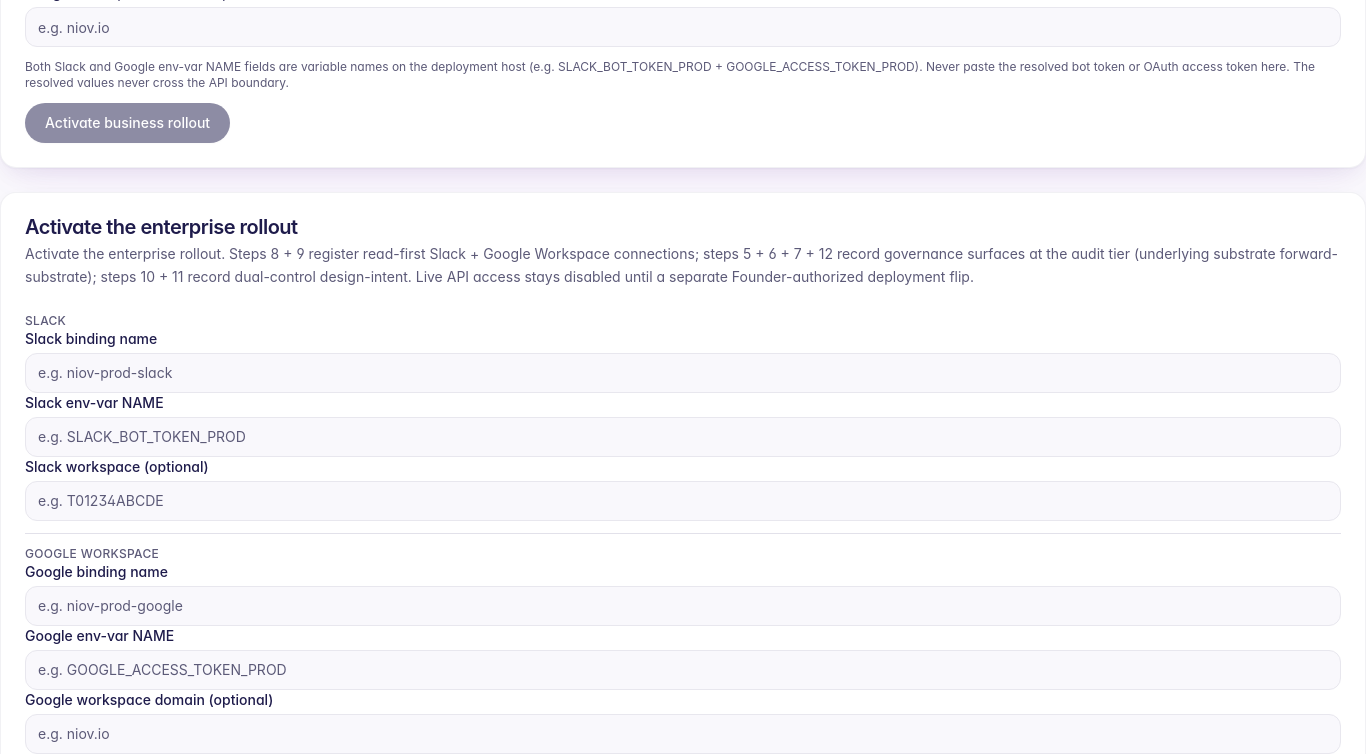
Test case: D6 enterprise — successful activation › renders all 14 step cards in order after a successful POST
The image size is (1366, 754).
(page scrolled)
In the field with test id "enterprise-slack-display-name-input": point(683, 372) [25, 352, 1341, 392], type "niov-prod-slack"
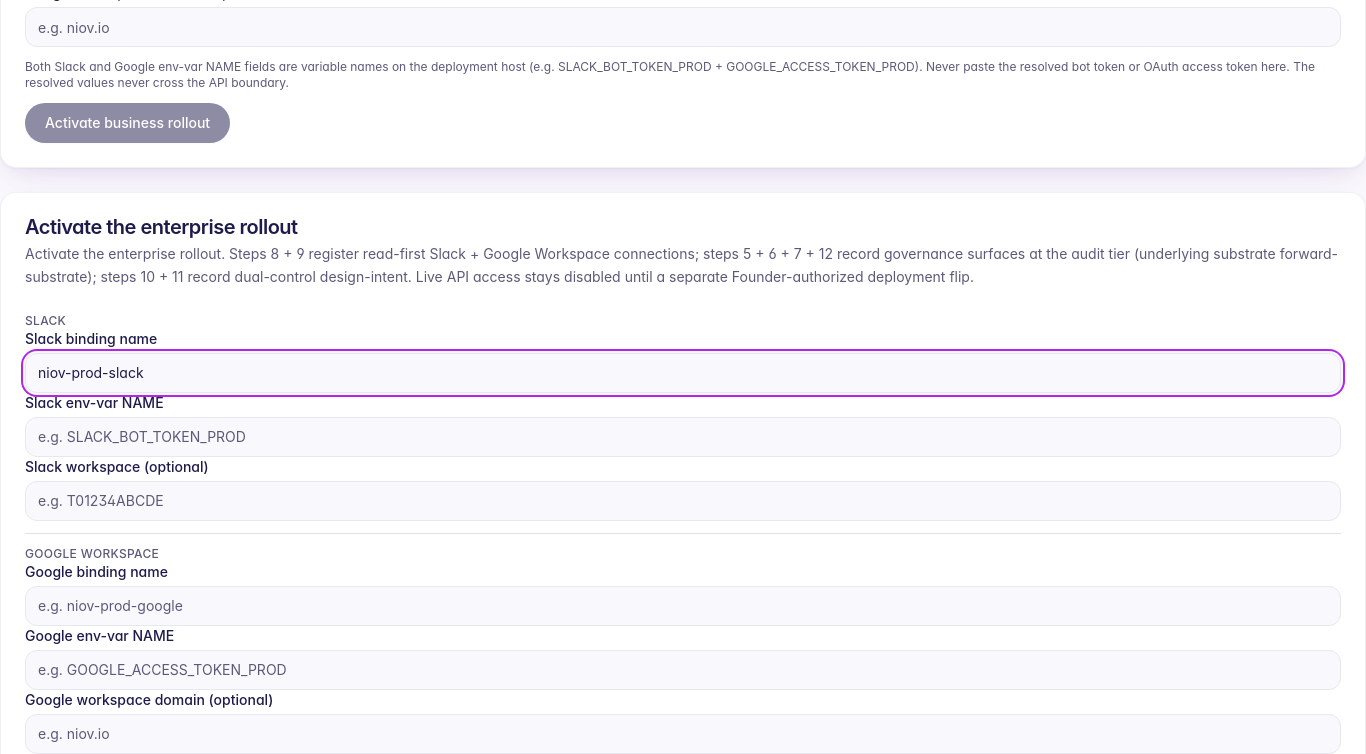
In the field with test id "enterprise-slack-secret-ref-input": point(683, 436) [25, 416, 1341, 456], type "SLACK_BOT_TOKEN_PROD"
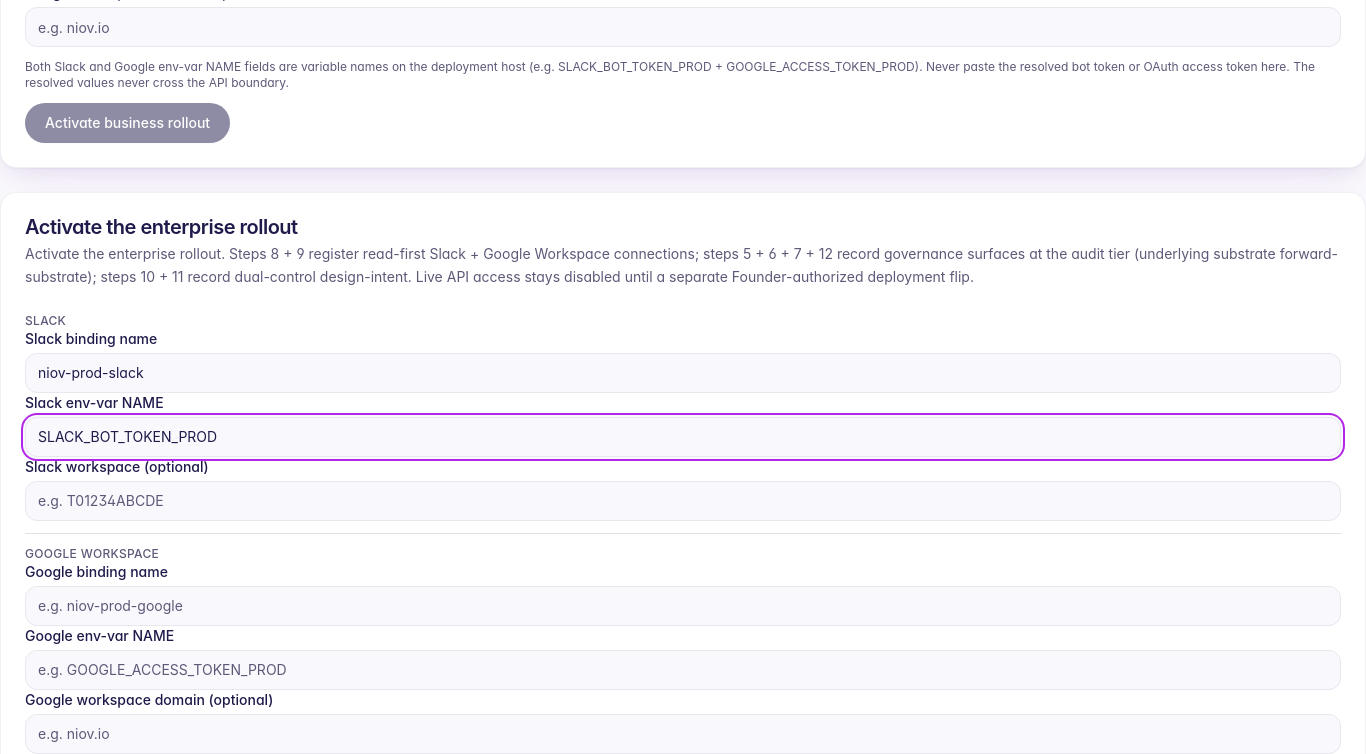
In the field with test id "enterprise-google-display-name-input": point(683, 606) [25, 586, 1341, 626], type "niov-prod-google"
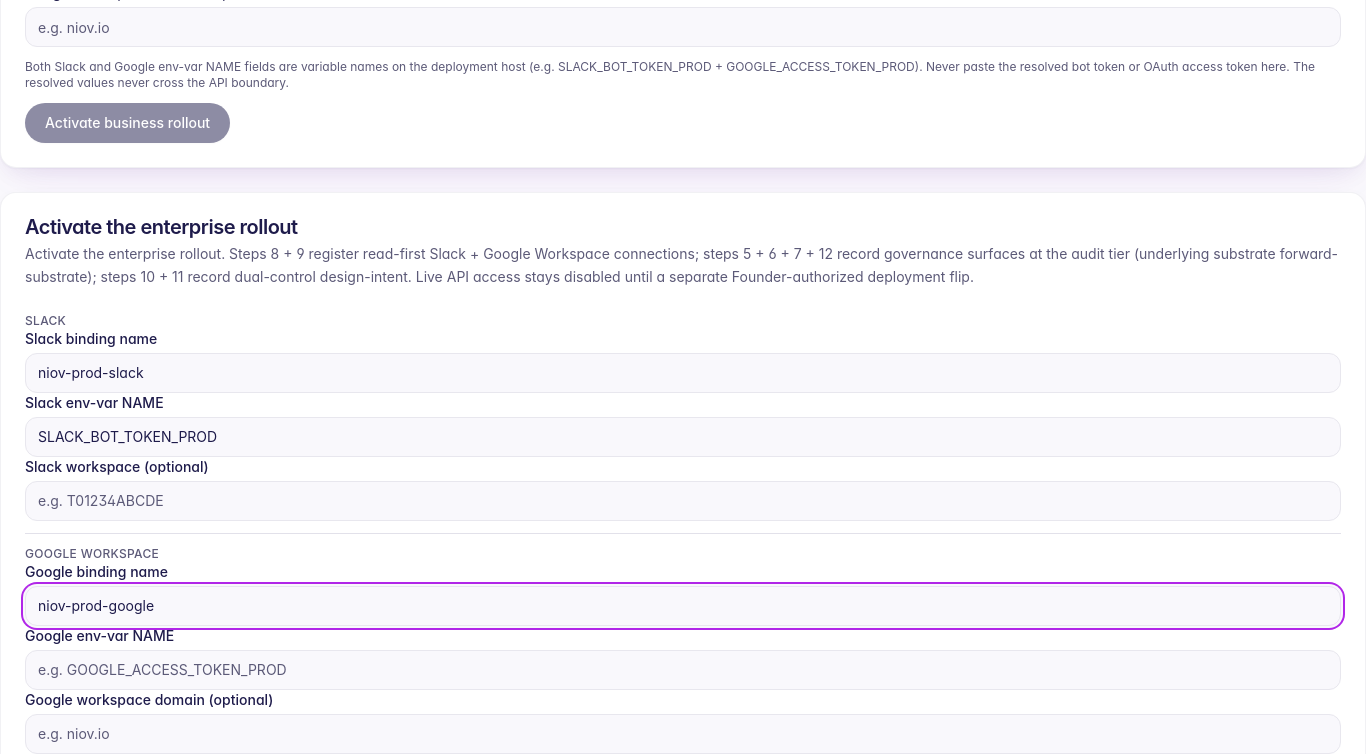
In the field with test id "enterprise-google-secret-ref-input": point(683, 670) [25, 650, 1341, 690], type "GOOGLE_ACCESS_TOKEN_PROD"
(page scrolled)
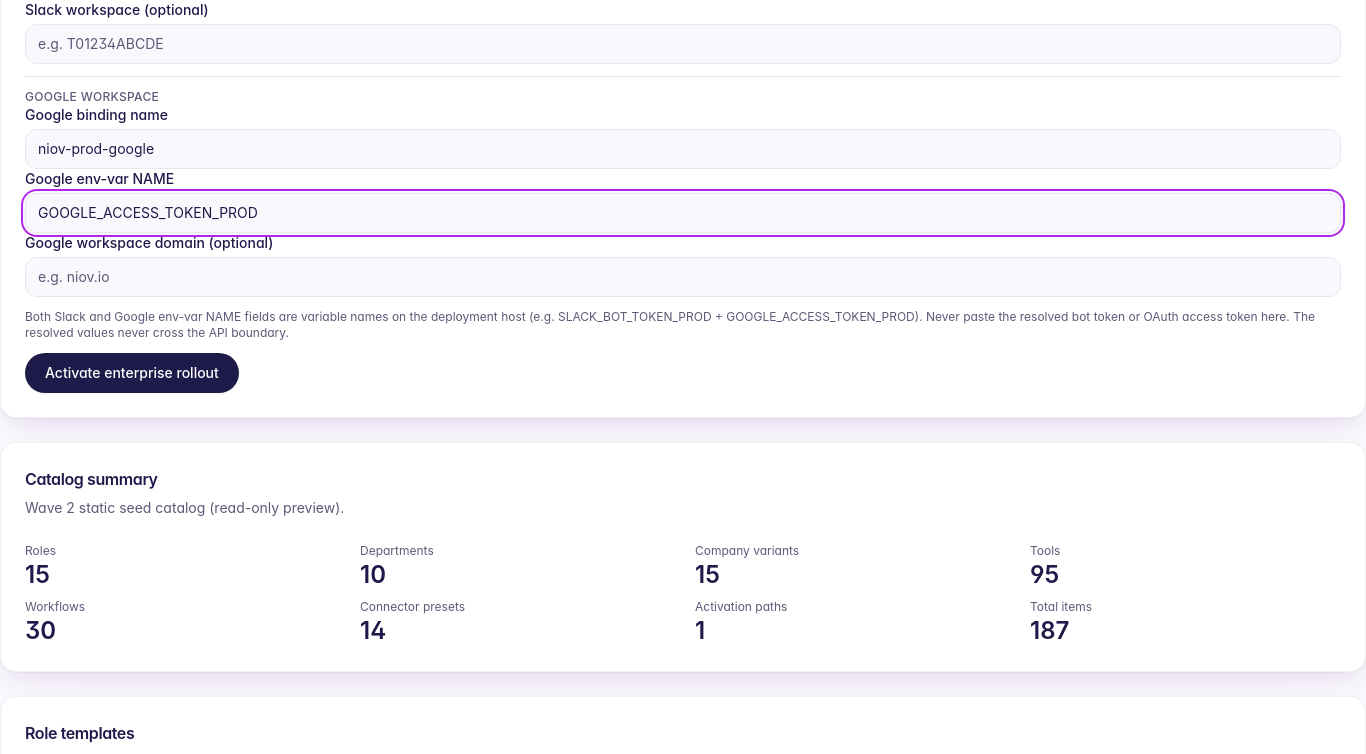
Click the button with test id "activate-enterprise-button": point(132, 372) [25, 352, 239, 392]
(page scrolled)
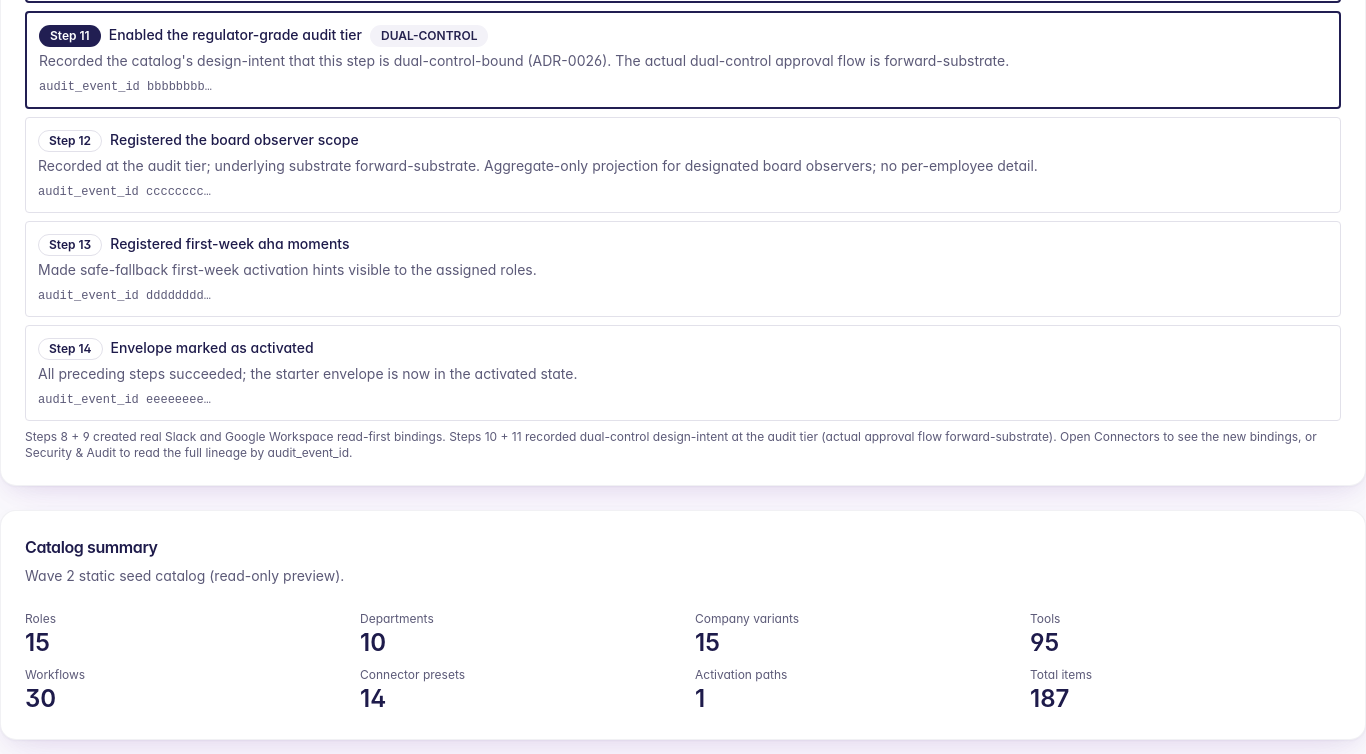
expect the element with test id "activation-step-11" is shown: met, box [25, 10, 1341, 108]
expect the element with test id "activation-step-12" is shown: met, box [25, 116, 1341, 212]
